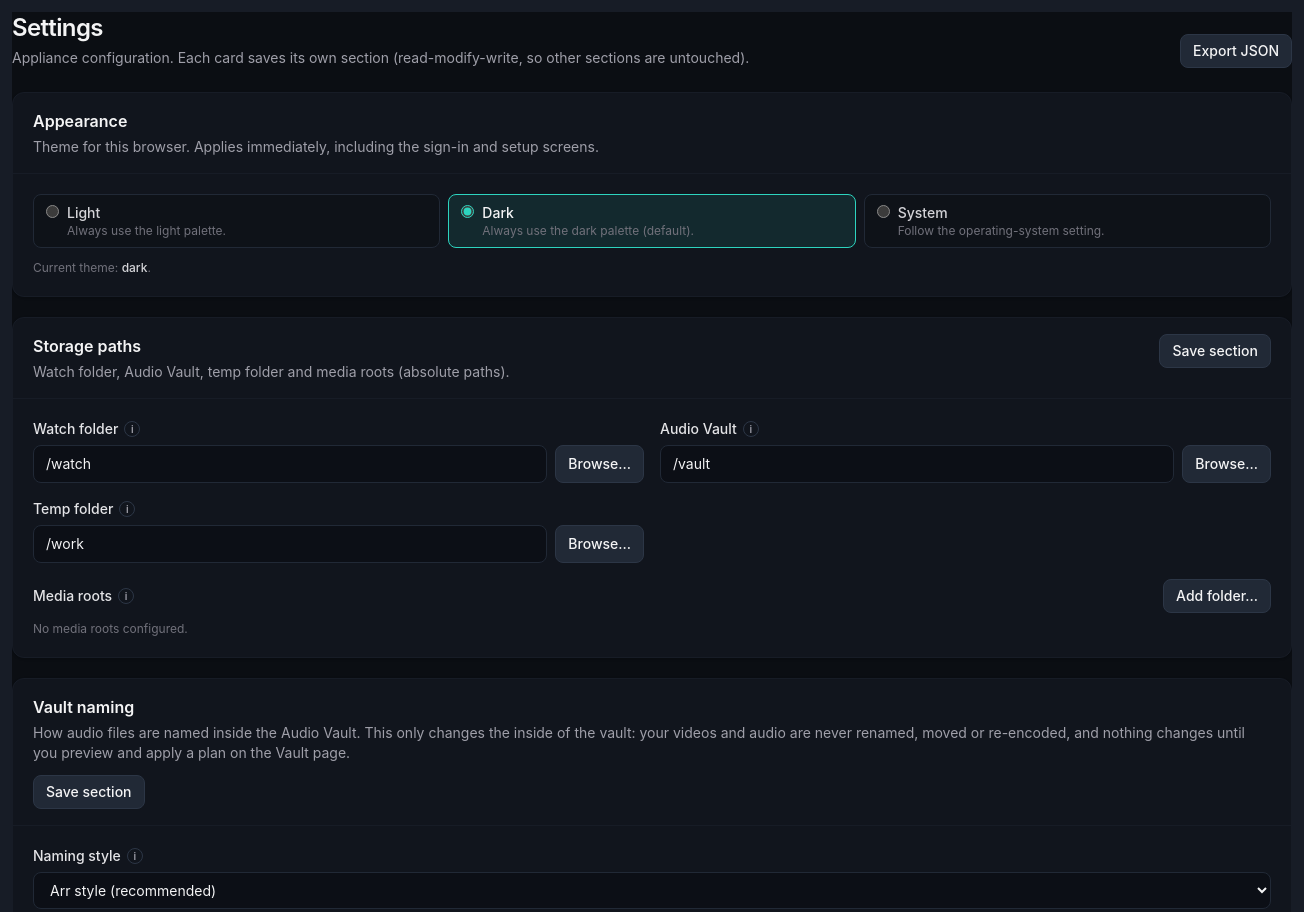
Test case: watch scanner restart notice › does not warn when only vault_dir changes
expect the heading "Storage paths" is shown: met, box [33,336,141,356]
Replace the text in the field labelled "Audio Vault" with "/new/vault": point(917, 464) [660,445,1174,483]
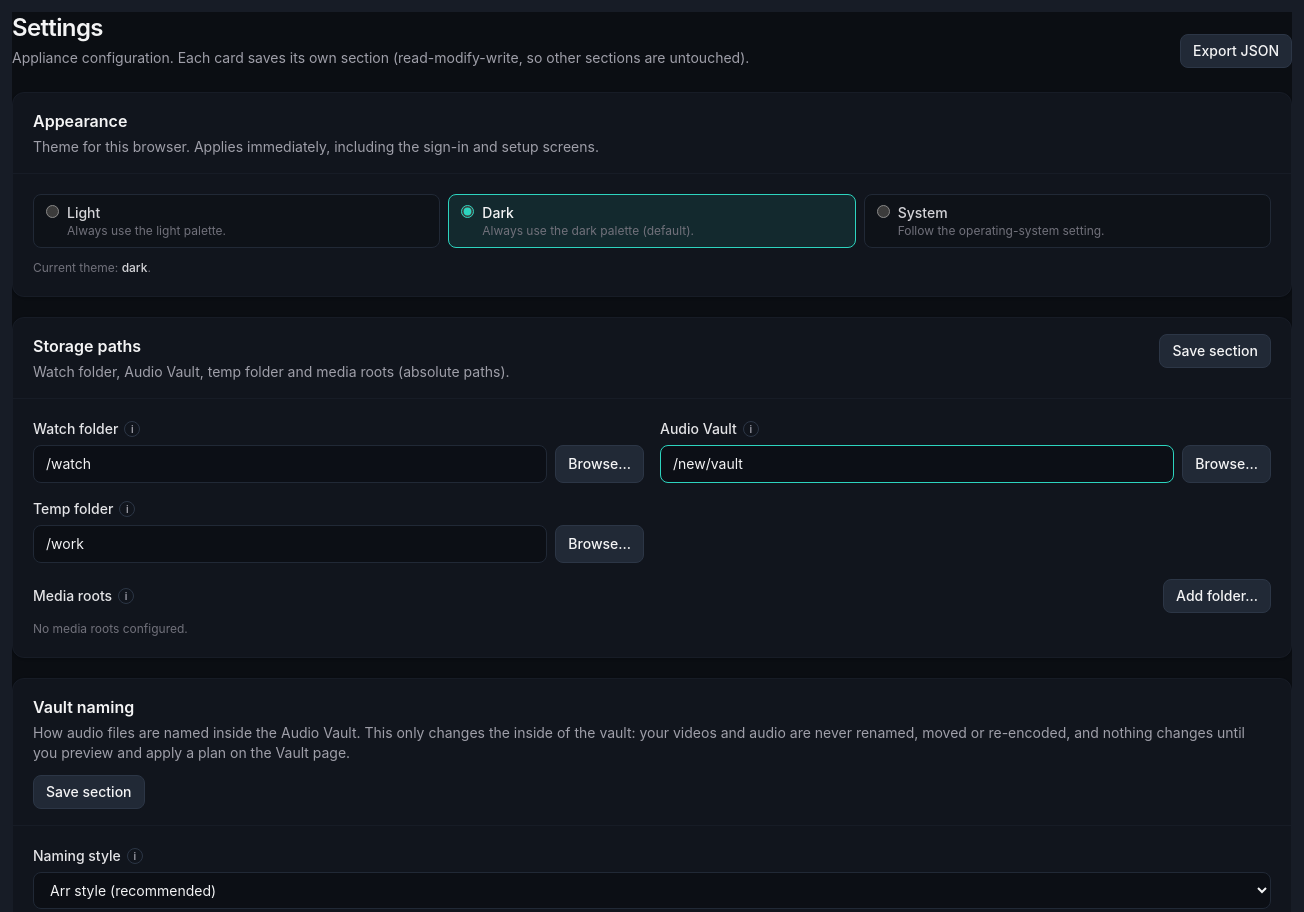
Click the button with aria-label "Save Storage paths": point(1215, 351) [1160,334,1271,368]
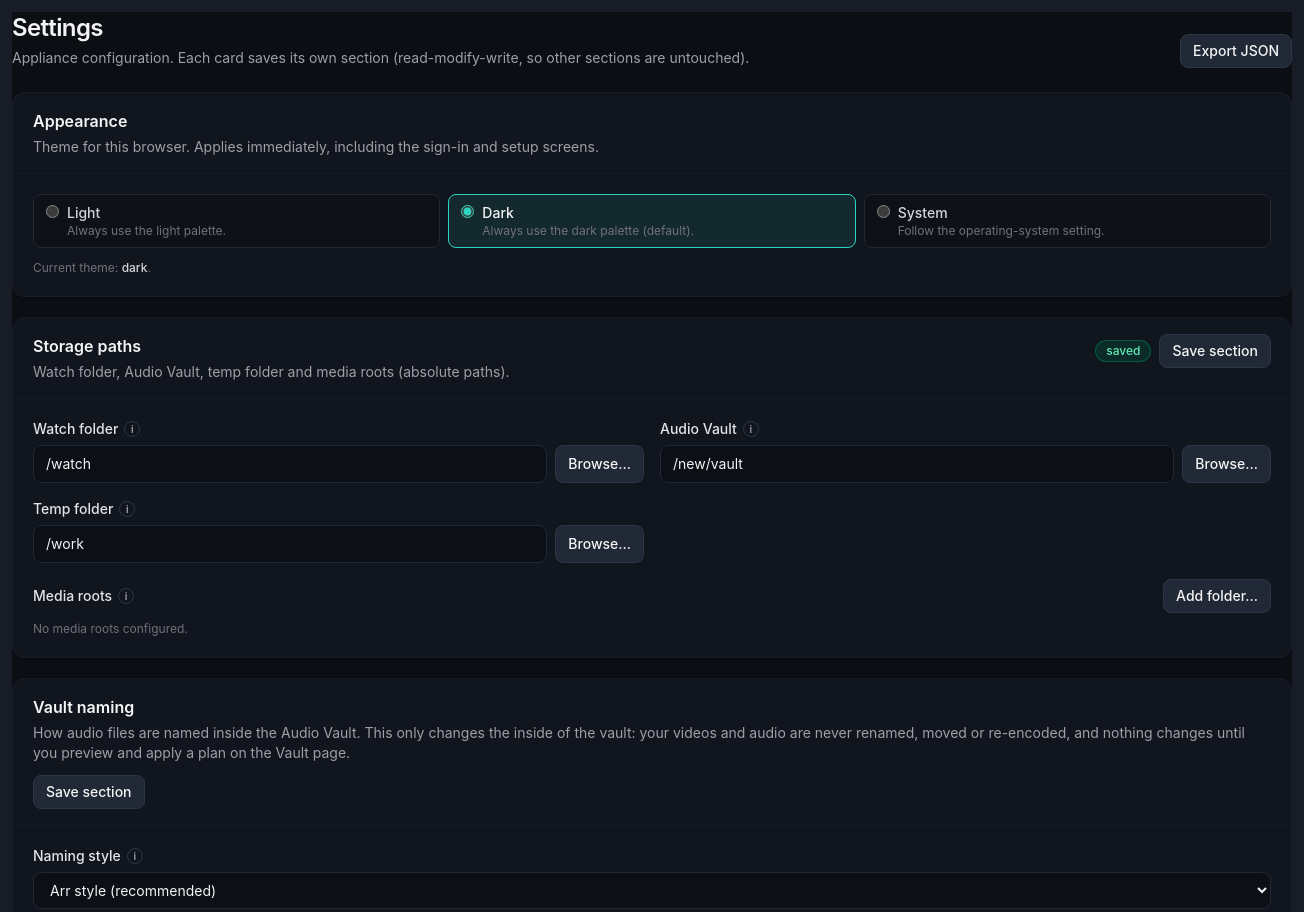
expect the text "saved" is shown: met, box [1095,340,1151,362]
